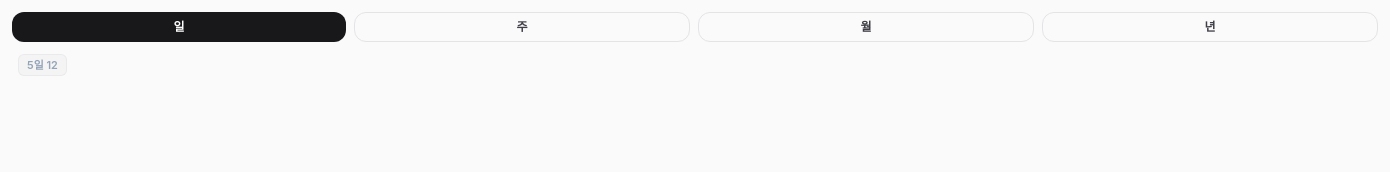
Test: PriceChart › computes the moving-average legend from weekly closes when the 주 tab is active
Click the button "주": (522, 27) [354,12,690,42]
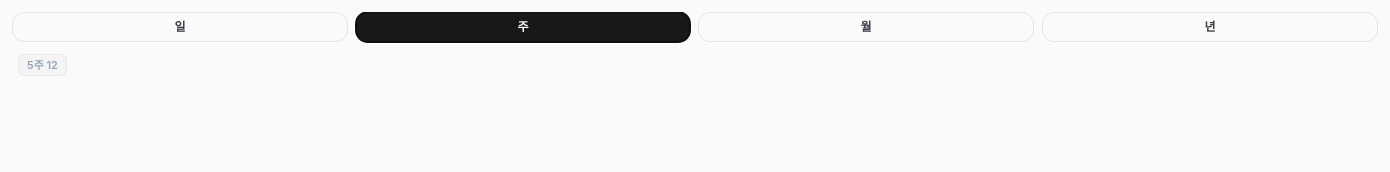
Check: the element with test id "ma-legend" shows "12", box [46,58,58,72]
Check: the element with test id "ma-legend" shows "5주", box [27,58,44,72]
